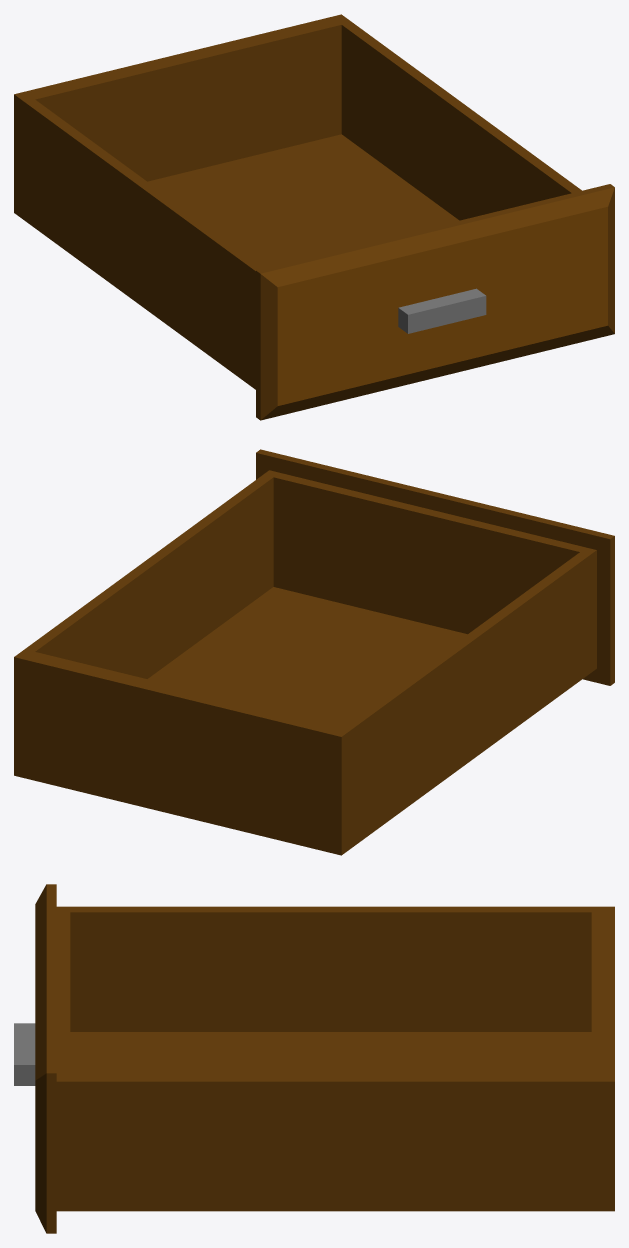
The model's file is _ink_Draw.fbx.
The picture shows the model from 3 angles, top to bottom: view 1: azimuth 30°, elevation 25°; view 2: azimuth 150°, elevation 25°; view 3: azimuth 270°, elevation 25°; orthographic projection. The views are drawn at different scales.
Visible parts, largest first — view 1: Cube.125; view 2: Cube.125; view 3: Cube.125.
Boxes of the visible parts, x1,y1,x2,y2 form: Cube.125: (14,14,614,420); Cube.125: (14,449,614,855); Cube.125: (14,884,614,1233).
Bounding box in the file's own units: 67.81 × 26.84 × 91.07.
